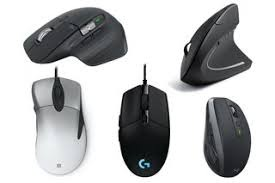mouse: (26, 70, 94, 172), (177, 1, 254, 84), (116, 78, 176, 181), (25, 9, 128, 65), (202, 88, 249, 177)
